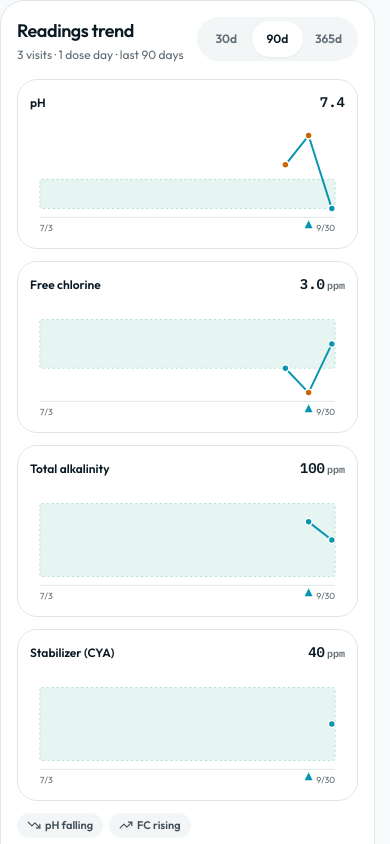
Test: ReadingsTrend › switches the window with the range toggle
Click the tab "365d".
click(328, 39)  # box [303,21,354,57]
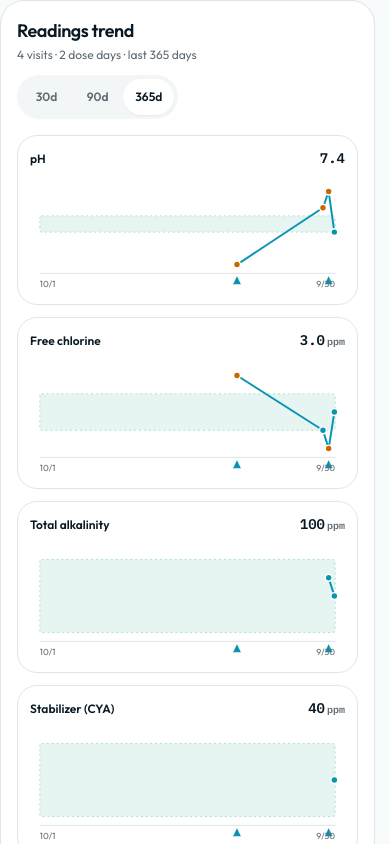
Check: the text "4 visits · 2 dose days · last 365 days" is shown, box [17,47,197,63]
Check: the picture named "pH trend: 4 readings in 365 days" is shown, box [30,172,345,292]
Click the tab "30d".
click(47, 97)  # box [21,79,72,115]
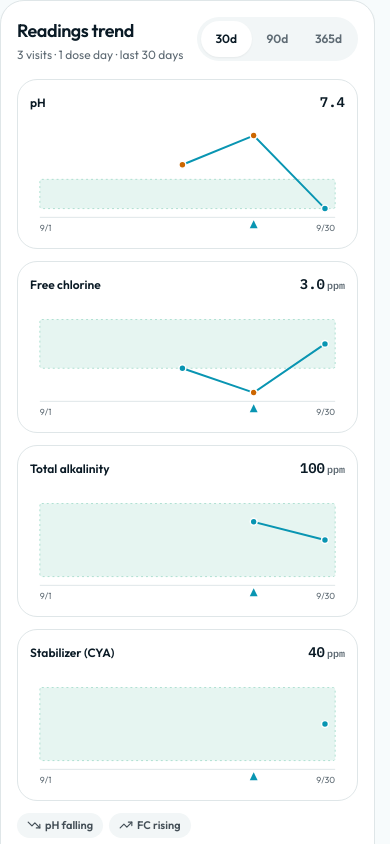
Check: the text "3 visits · 1 dose day · last 30 days" is shown, box [17,47,183,63]
